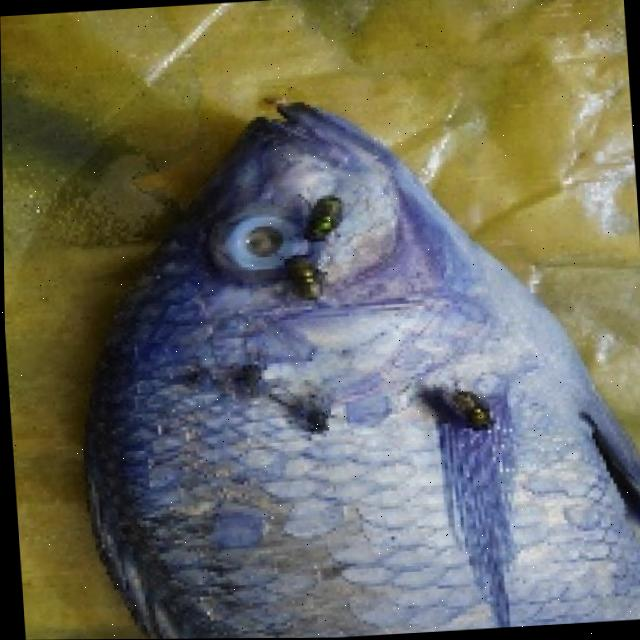Non-Fresh: (193, 180, 345, 312)
